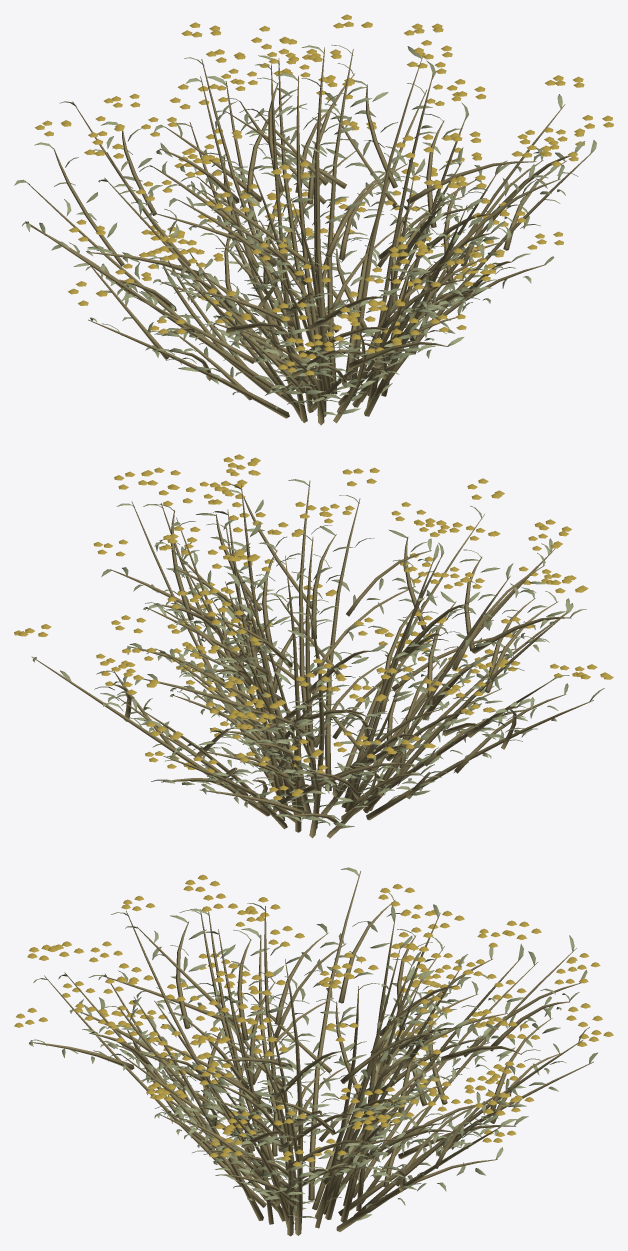
The model's file is Immortelle_Dense_LOD0.fbx.
3 views of the same model, one above another, from view 1: azimuth 30°, elevation 25°; view 2: azimuth 150°, elevation 25°; view 3: azimuth 270°, elevation 25° (orthographic). The views are drawn at different scales.
Visible parts, largest first — view 1: Immortelle_Dense; view 2: Immortelle_Dense; view 3: Immortelle_Dense.
Boxes of the visible parts, bbox=[...] form: Immortelle_Dense: bbox=[14, 14, 613, 425]; Immortelle_Dense: bbox=[14, 454, 613, 838]; Immortelle_Dense: bbox=[14, 867, 613, 1236].
Bounding box in the file's own units: 67.5 × 41.94 × 69.81.
